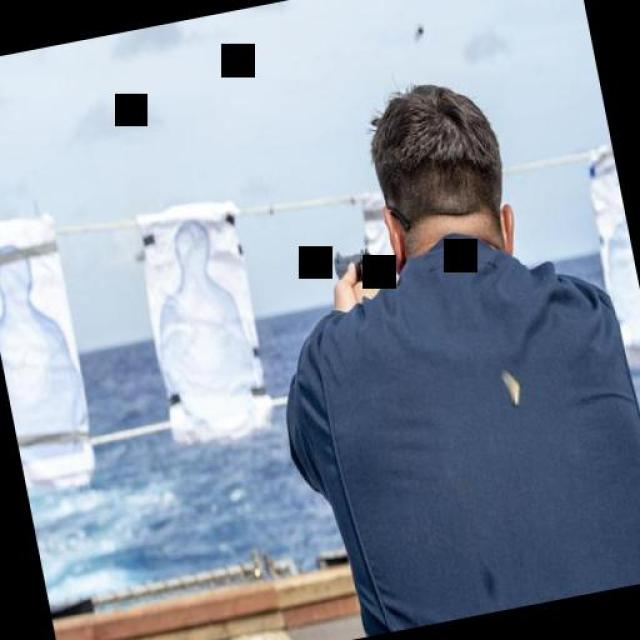gun: (326, 241, 385, 300)
